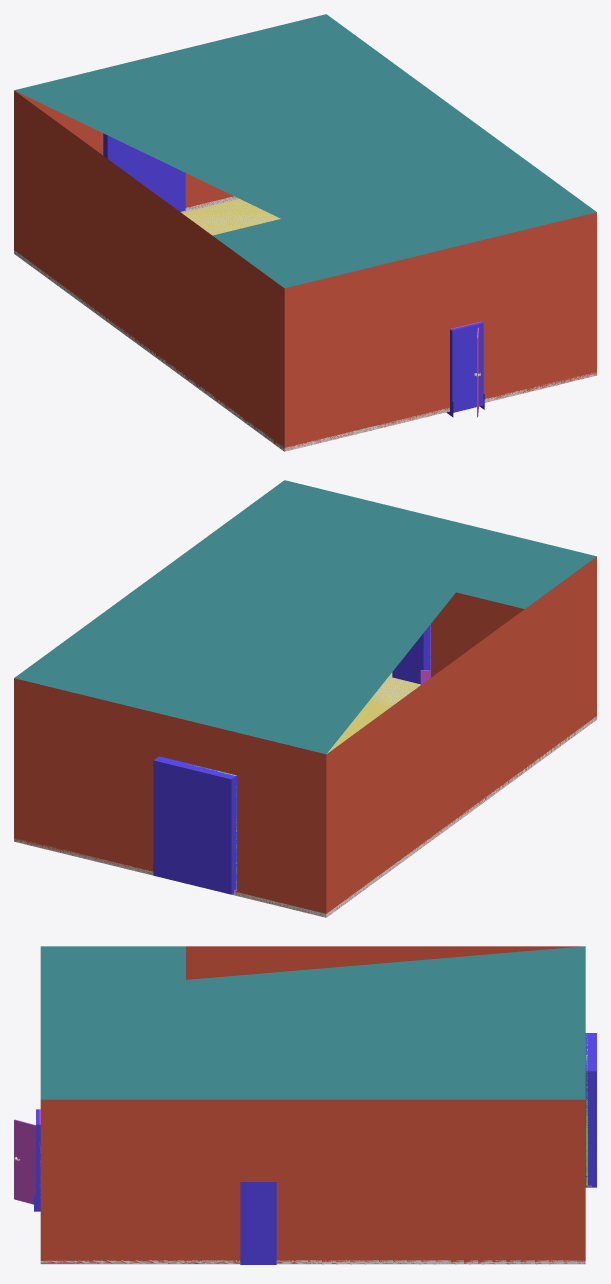
Rendered from room2.glb.
3 renders of one model, top to bottom at view 1: azimuth 30°, elevation 25°; view 2: azimuth 150°, elevation 25°; view 3: azimuth 270°, elevation 25°, orthographic.
Visible parts, largest first — view 1: Room.001, Ceiling, CTRL_Hole.004, CTRL_Hole, Baseboard.001, Floor, Plane; view 2: Room.001, Ceiling, CTRL_Hole.004, Baseboard.001, Floor, CTRL_Hole, Plane; view 3: Room.001, Ceiling, CTRL_Hole.001, Baseboard.001, Door.003, CTRL_Hole.004, CTRL_Hole.
Boxes of the visible parts, <box> form: Room.001: <box>14,90,596,451</box>; Ceiling: <box>14,14,596,288</box>; CTRL_Hole.004: <box>103,133,185,211</box>; CTRL_Hole: <box>450,322,483,412</box>; Baseboard.001: <box>14,196,596,451</box>; Floor: <box>182,199,280,235</box>; Plane: <box>183,199,278,234</box>; Room.001: <box>14,556,596,916</box>; Ceiling: <box>14,480,596,754</box>; CTRL_Hole.004: <box>153,756,237,894</box>; Baseboard.001: <box>14,716,596,917</box>; Floor: <box>327,672,420,753</box>; CTRL_Hole: <box>392,624,430,684</box>; Plane: <box>328,673,420,752</box>; Room.001: <box>40,946,585,1264</box>; Ceiling: <box>40,946,585,1099</box>; CTRL_Hole.001: <box>240,1181,276,1264</box>; Baseboard.001: <box>40,1260,585,1264</box>; Door.003: <box>14,1119,35,1204</box>; CTRL_Hole.004: <box>585,1033,596,1187</box>; CTRL_Hole: <box>36,1109,40,1207</box>.
Size of the model in its own units: 10.09 by 5.12 by 16.04.
